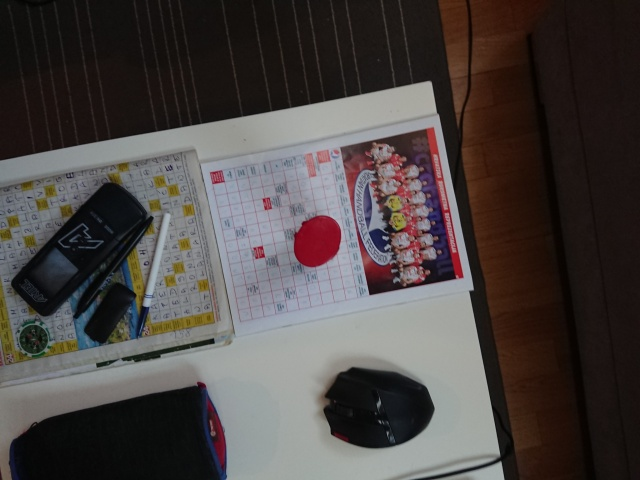Kotanyi Curry Spices Mix 70g: (292, 214, 344, 270)
